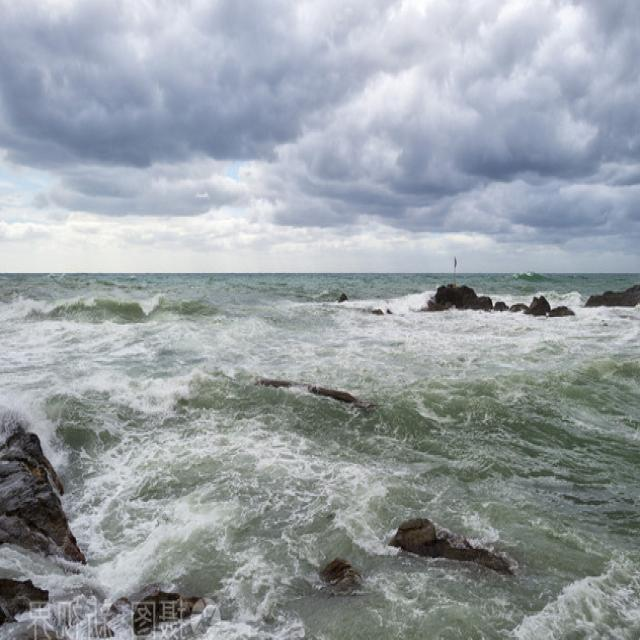reef: (0, 427, 99, 640), (370, 492, 520, 585), (416, 267, 577, 322)
